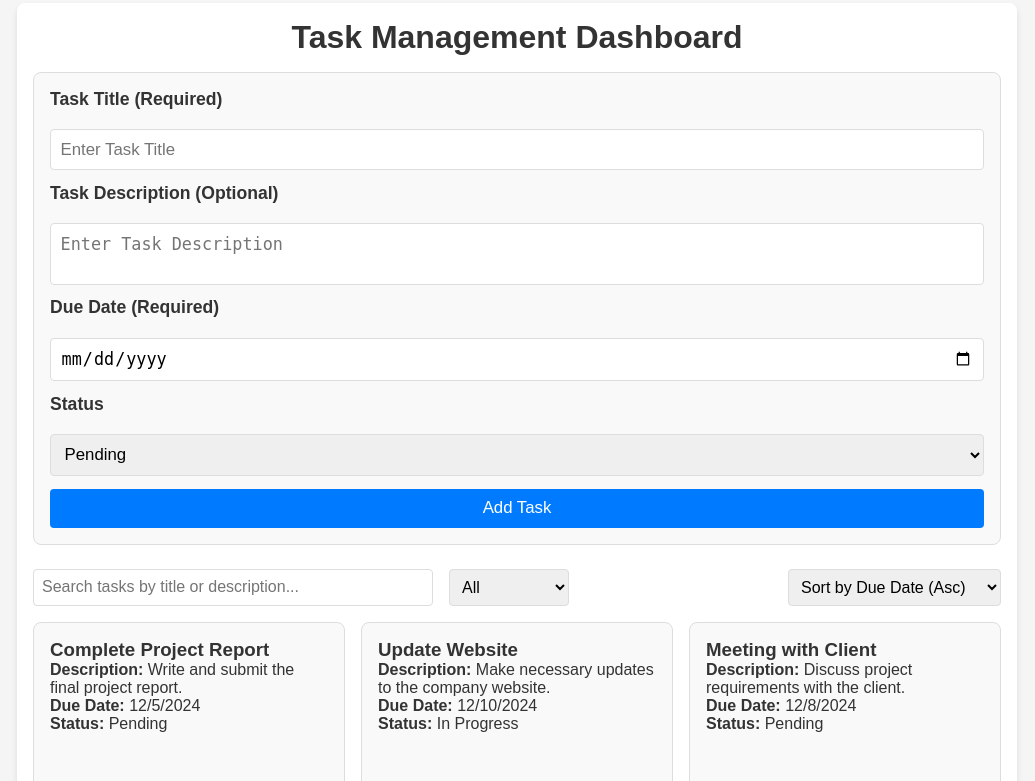
Scenario: App Component › filters tasks based on status
Select "Pending" in the dropdown named "Filter by Status" at point(509, 587), box [449,569,569,606]
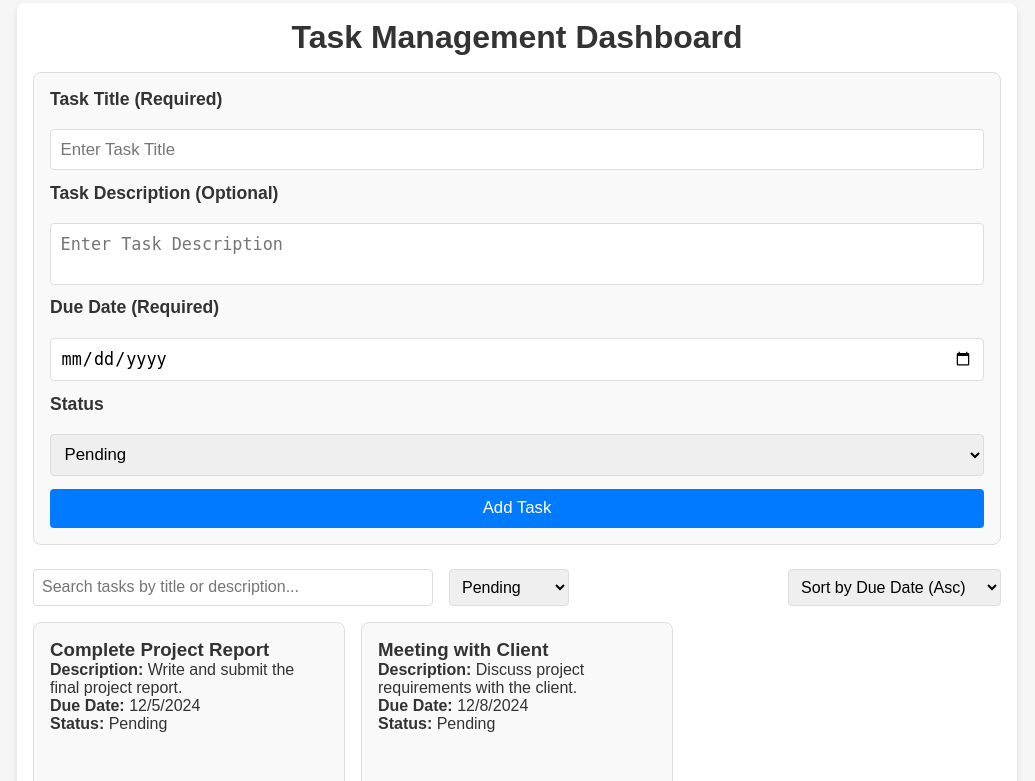
Check: the heading "Complete Project Report" is shown, box [50,639,269,660]
Check: the heading "Update Website" is gone
